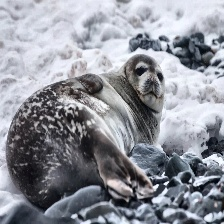seal: (2, 53, 168, 221), (2, 53, 167, 221)
